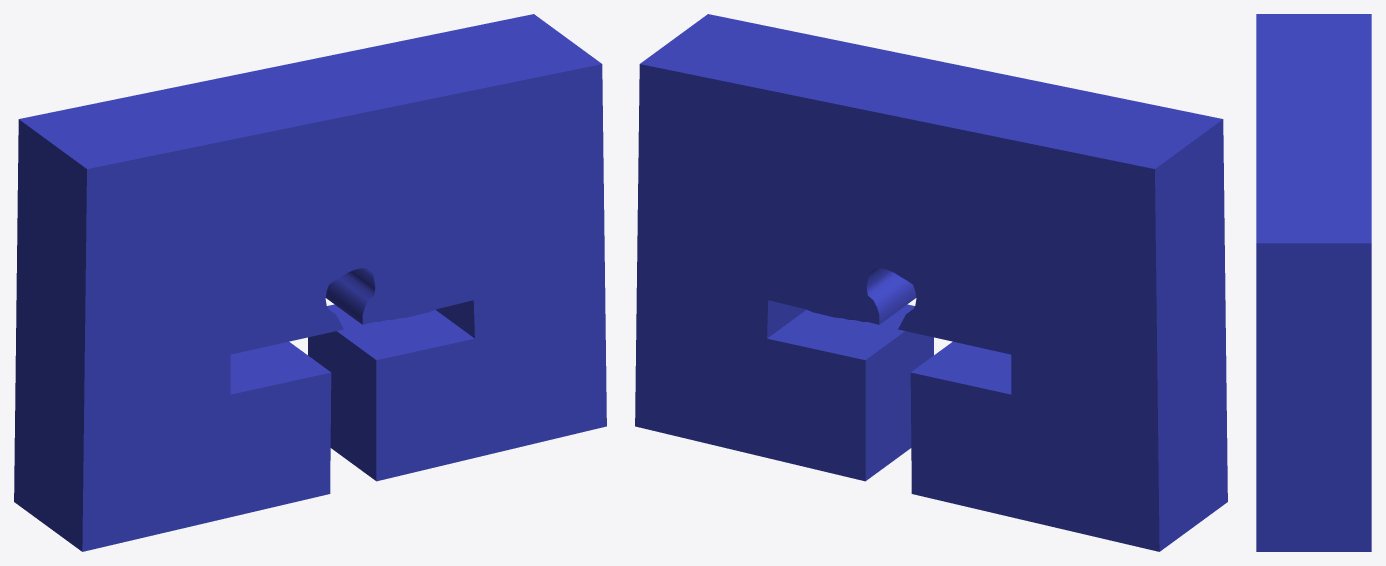
Rendered from testwall.fbx.
3 views of the same model, side by side, from view 1: azimuth 30°, elevation 25°; view 2: azimuth 150°, elevation 25°; view 3: azimuth 270°, elevation 25° (orthographic). The views are drawn at different scales.
Visible parts, largest first — view 1: root; view 2: root; view 3: root.
Part boxes in pixels (left/top/right/bottom): root: left=14, top=14, right=606, bottom=551; root: left=635, top=14, right=1227, bottom=551; root: left=1256, top=14, right=1371, bottom=551.
Size of the model in its own units: 0.4431 by 0.3101 by 0.1.
